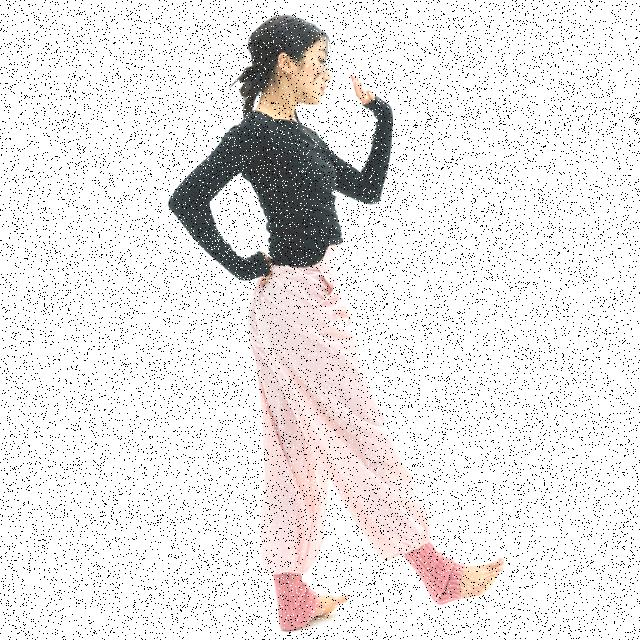Blouse_deep: (236, 245, 438, 580)
